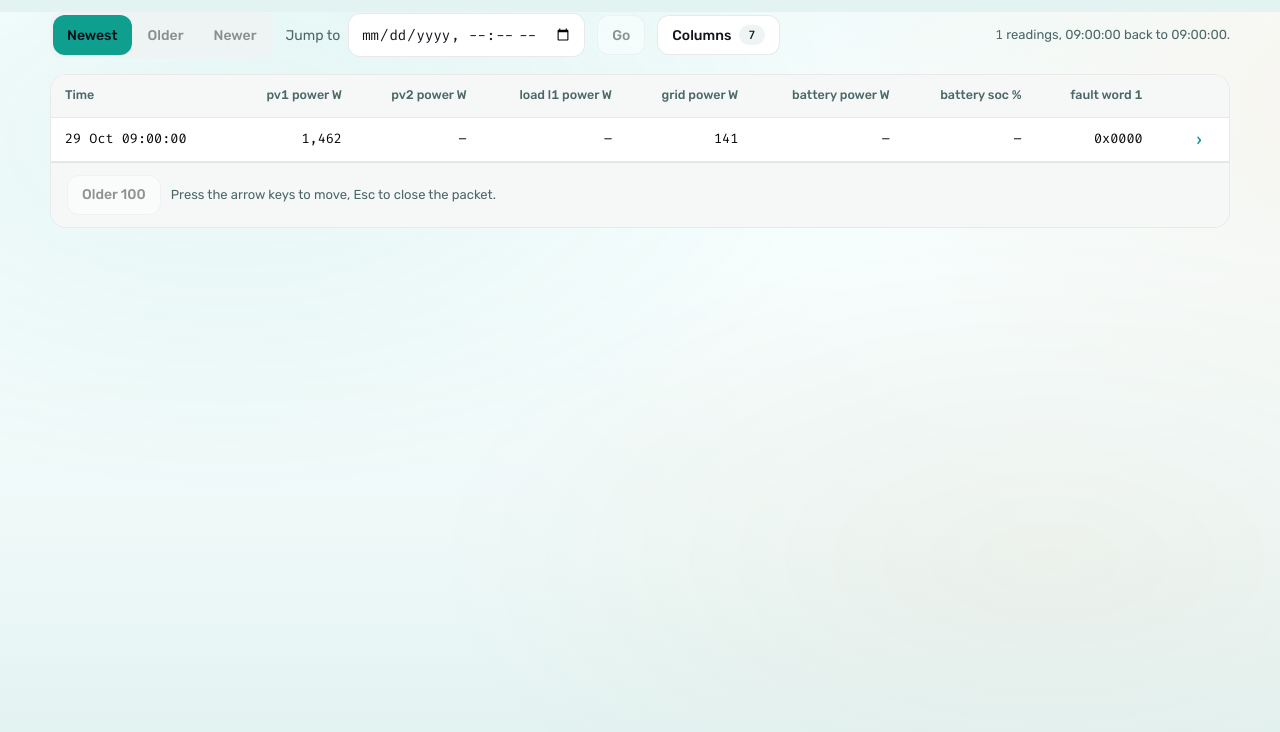
Scenario: ReadingsTab › RR17 says so when the packet fails to load
Click the text "1,462".
click(640, 139)  # box top-left (51, 117), bottom-right (1229, 161)
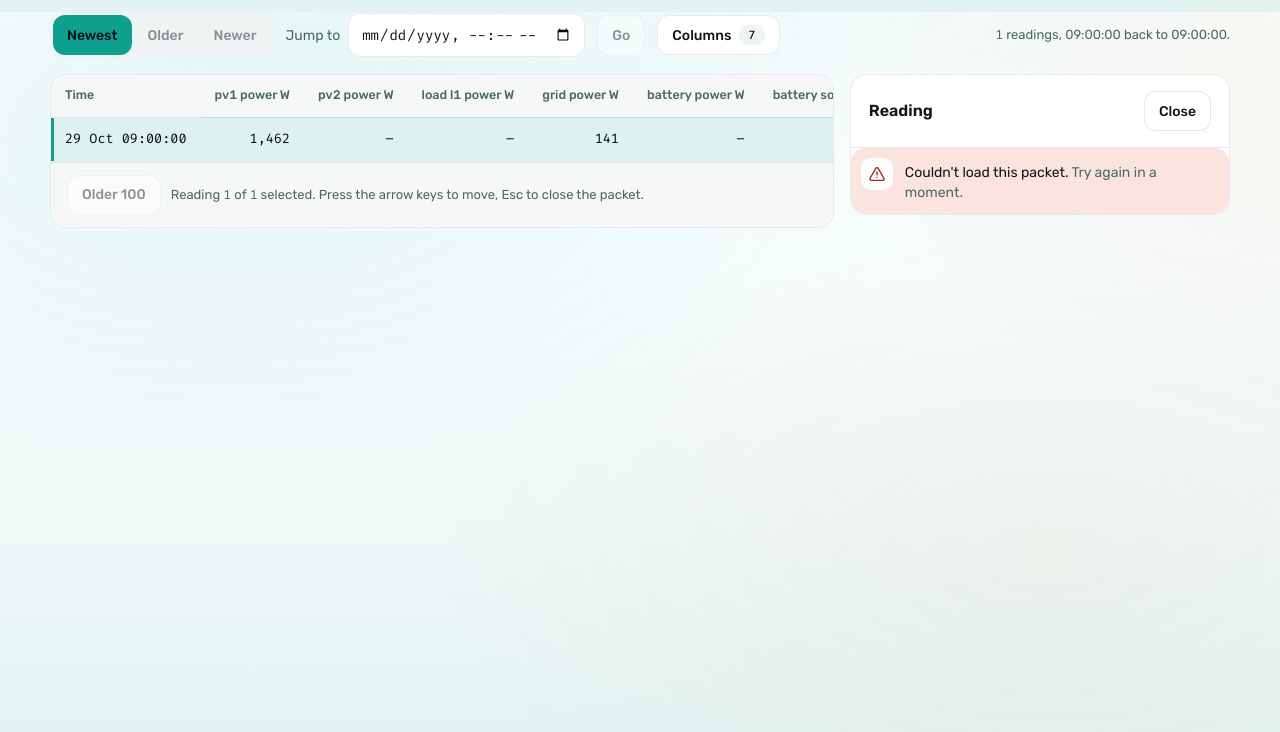
Result: the text "Couldn't load this packet. Try again in a moment." is shown at top-left (905, 164), bottom-right (1157, 201)
